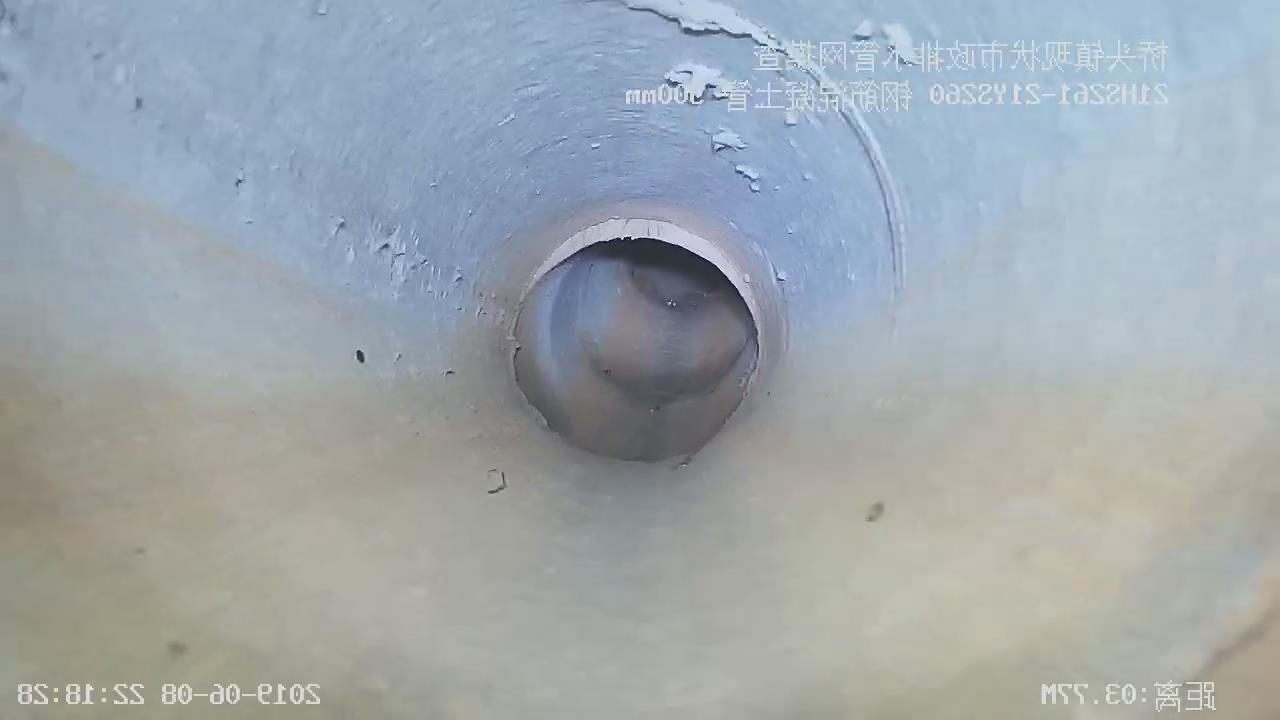CKTJ: (526, 217, 763, 329)
